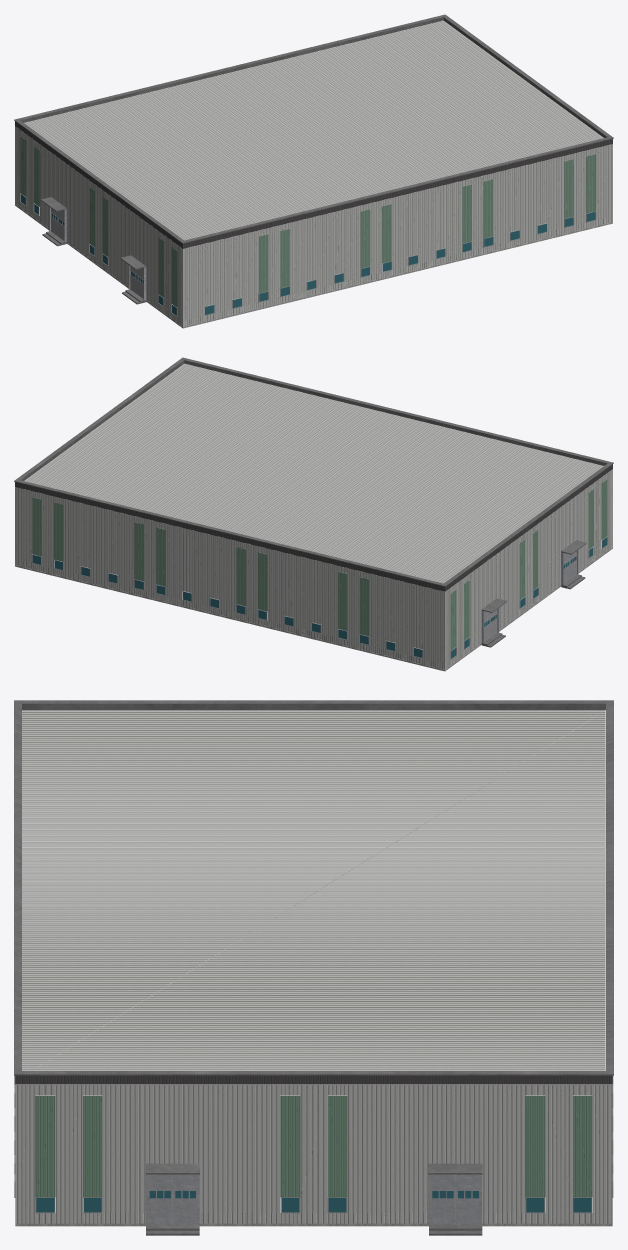
The model's file is 备件间及机修间.glb.
The picture shows the model from 3 angles, top to bottom: view 1: azimuth 30°, elevation 25°; view 2: azimuth 150°, elevation 25°; view 3: azimuth 270°, elevation 25°; orthographic projection. The views are drawn at different scales.
Parts seen in each view (by area): view 1: 备件间及机修间00, 备件间及机修间01, 备件间及机修间03, 备件间及机修间02, 备件间及机修间05, 备件间及机修间04, 备件间及机修间06; view 2: 备件间及机修间00, 备件间及机修间01, 备件间及机修间03, 备件间及机修间02, 备件间及机修间05, 备件间及机修间04, 备件间及机修间06; view 3: 备件间及机修间00, 备件间及机修间01, 备件间及机修间03, 备件间及机修间05, 备件间及机修间02, 备件间及机修间04, 备件间及机修间06.
Part boxes in pixels (x1=…): 备件间及机修间00: x1=15, y1=20, x2=612, y2=326; 备件间及机修间01: x1=14, y1=14, x2=613, y2=304; 备件间及机修间03: x1=20, y1=136, x2=595, y2=307; 备件间及机修间02: x1=15, y1=121, x2=612, y2=248; 备件间及机修间05: x1=20, y1=193, x2=595, y2=316; 备件间及机修间04: x1=21, y1=194, x2=595, y2=315; 备件间及机修间06: x1=15, y1=204, x2=612, y2=328; 备件间及机修间00: x1=15, y1=363, x2=612, y2=669; 备件间及机修间01: x1=14, y1=357, x2=613, y2=647; 备件间及机修间03: x1=32, y1=479, x2=607, y2=650; 备件间及机修间02: x1=15, y1=464, x2=612, y2=591; 备件间及机修间05: x1=32, y1=536, x2=607, y2=659; 备件间及机修间04: x1=32, y1=537, x2=606, y2=658; 备件间及机修间06: x1=15, y1=547, x2=612, y2=671; 备件间及机修间00: x1=15, y1=710, x2=612, y2=1223; 备件间及机修间01: x1=14, y1=700, x2=613, y2=1235; 备件间及机修间03: x1=35, y1=1095, x2=592, y2=1197; 备件间及机修间05: x1=14, y1=1075, x2=613, y2=1225; 备件间及机修间02: x1=15, y1=1075, x2=612, y2=1084; 备件间及机修间04: x1=36, y1=1191, x2=591, y2=1212; 备件间及机修间06: x1=15, y1=1223, x2=612, y2=1226.
Size of the model in its own units: 66.07 by 12.1 by 42.8.
Materials: 7 (7 with a texture image).
